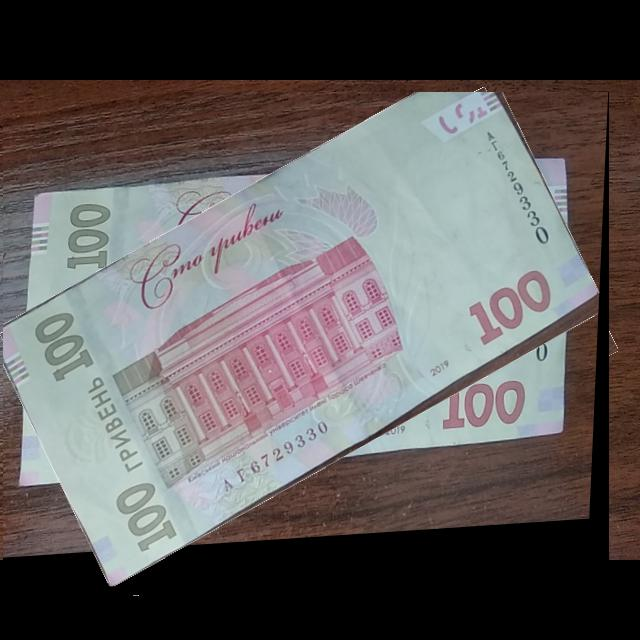100uah: (3, 92, 602, 590)
